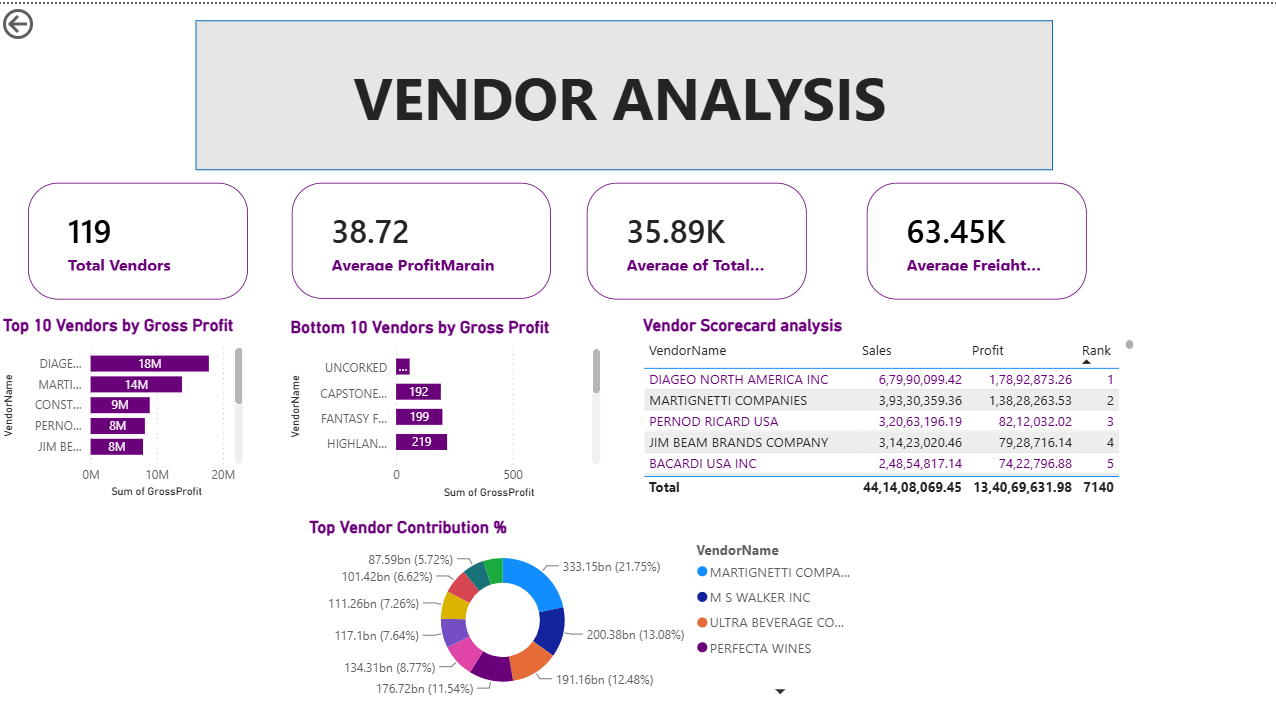

Layout of this report page (visuals, bound fields, positions):
{"tool":"powerbi","page":{"name":"Page 2","canvas":[1280,720],"ordinal":1},"visuals":[{"type":"shape","box":[197.5,16.2,857.5,150],"z":0},{"type":"textbox","box":[125,30,993.8,121.2],"z":1000},{"type":"cardVisual","fields":{"Data":["Count(vendor_sales_summary.VendorName)"]},"box":[30,178.3,220,116.7],"z":2000},{"type":"cardVisual","fields":{"Data":["Avg(vendor_sales_summary.ProfitMargin)"]},"box":[293.5,178.5,259.2,116.2],"z":3000},{"type":"cardVisual","fields":{"Data":["Avg(vendor_sales_summary.TotalPurchaseDollars)"]},"box":[588.3,178.3,220,116.7],"z":4000},{"type":"cardVisual","fields":{"Data":["Avg(vendor_sales_summary.FreightCost)"]},"box":[868.3,178.3,220,116.7],"z":5000},{"type":"barChart","title":"Top 10 Vendors by Gross Profit","fields":{"Category":["vendor_sales_summary.VendorName"],"Y":["Sum(vendor_sales_summary.GrossProfit)"]},"box":[0,311.2,250,187.5],"z":6000},{"type":"barChart","title":"Bottom 10  Vendors by Gross Profit","fields":{"Category":["vendor_sales_summary.VendorName"],"Y":["Sum(vendor_sales_summary.GrossProfit)"]},"box":[287.8,312.2,320,186.7],"z":7000},{"type":"actionButton","box":[0,0,100,40],"z":8000},{"type":"tableEx","title":"Vendor Scorecard analysis","fields":{"Values":["VendorScorecard.VendorName","Sum(VendorScorecard.Sales)","Sum(VendorScorecard.Profit)","Sum(VendorScorecard.Rank)"]},"box":[640,311.1,501.1,186.7],"z":9000},{"type":"donutChart","title":"Top Vendor Contribution %","fields":{"Y":["Sum(vendor_sales_summary.Total Purchase)"],"Category":["vendor_sales_summary.VendorName"]},"box":[306.7,512.2,563.3,187.8],"z":10000}]}

Visuals, with their boxes in screenshot pixels (x1, y1, x2, y2), scaled from the page's 1280x720 canvas onto the 1276x722 screenshot:
shape: rect(197, 16, 1052, 167)
textbox: rect(125, 30, 1115, 152)
cardVisual - Count(vendor_sales_summary.VendorName): rect(30, 179, 249, 296)
cardVisual - Avg(vendor_sales_summary.ProfitMargin): rect(293, 179, 551, 296)
cardVisual - Avg(vendor_sales_summary.TotalPurchaseDollars): rect(586, 179, 806, 296)
cardVisual - Avg(vendor_sales_summary.FreightCost): rect(866, 179, 1085, 296)
"Top 10 Vendors by Gross Profit" barChart: rect(0, 312, 249, 500)
"Bottom 10  Vendors by Gross Profit" barChart: rect(287, 313, 606, 500)
actionButton: rect(0, 0, 100, 40)
"Vendor Scorecard analysis" tableEx: rect(638, 312, 1138, 499)
"Top Vendor Contribution %" donutChart: rect(306, 514, 867, 702)
